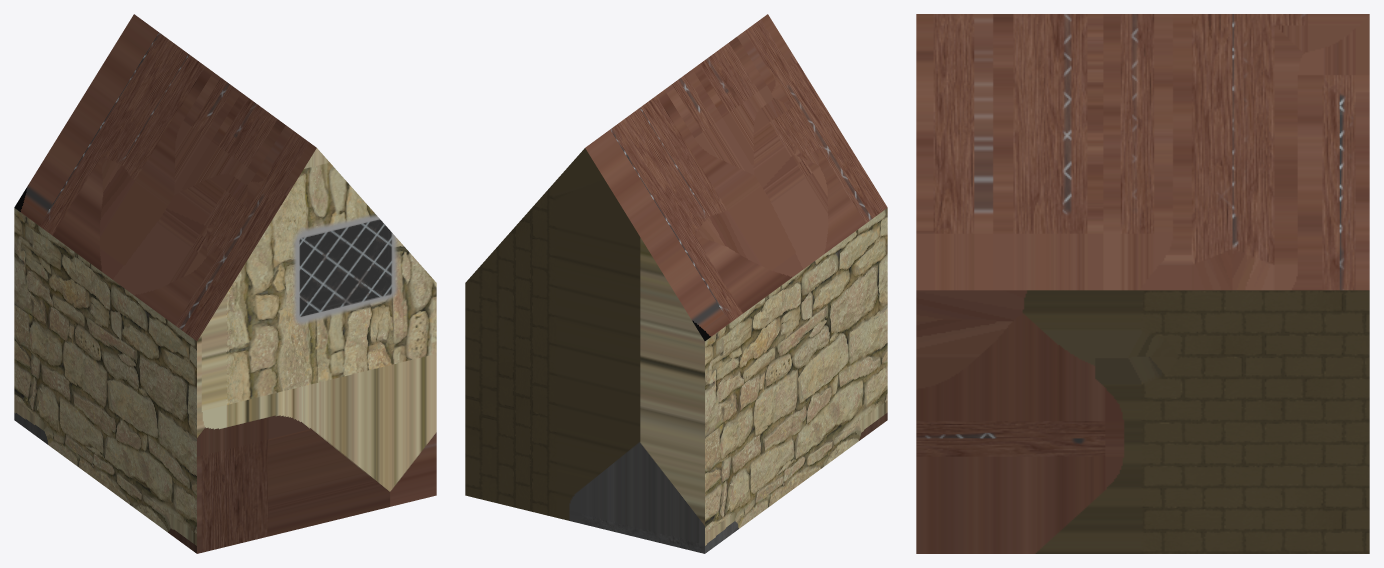
File: house.obj
3 views of the same model, side by side, from view 1: azimuth 30°, elevation 25°; view 2: azimuth 150°, elevation 25°; view 3: azimuth 270°, elevation 25° (orthographic). The views are drawn at different scales.
Visible parts, largest first — view 1: Cube; view 2: Cube; view 3: Cube.
Part boxes in pixels (bbox=[...]): Cube: bbox=[14, 14, 436, 553]; Cube: bbox=[465, 14, 887, 553]; Cube: bbox=[916, 14, 1369, 553].
Bounding box in the file's own units: 2 × 3.01 × 2.64.
